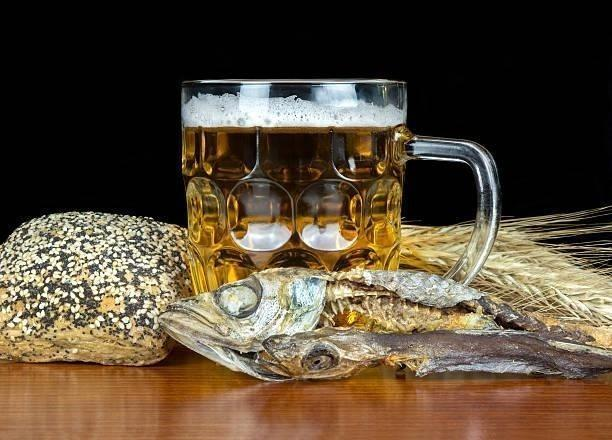glass-mug: (165, 70, 507, 374)
